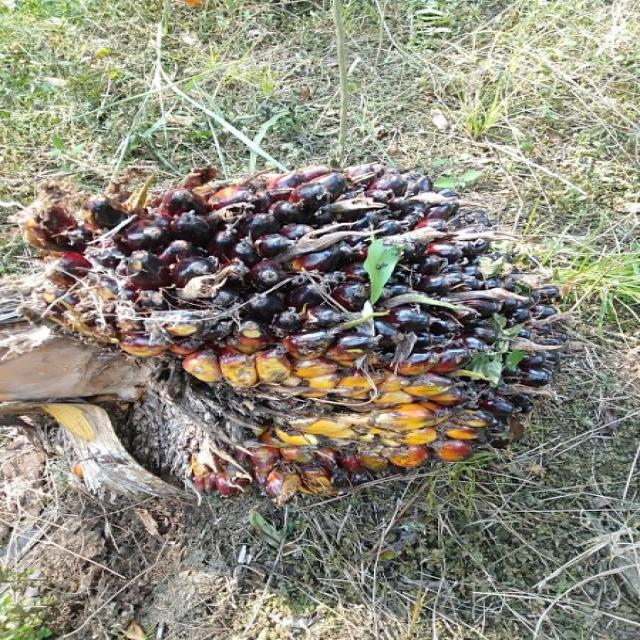fraksi 00: (23, 156, 570, 508)
